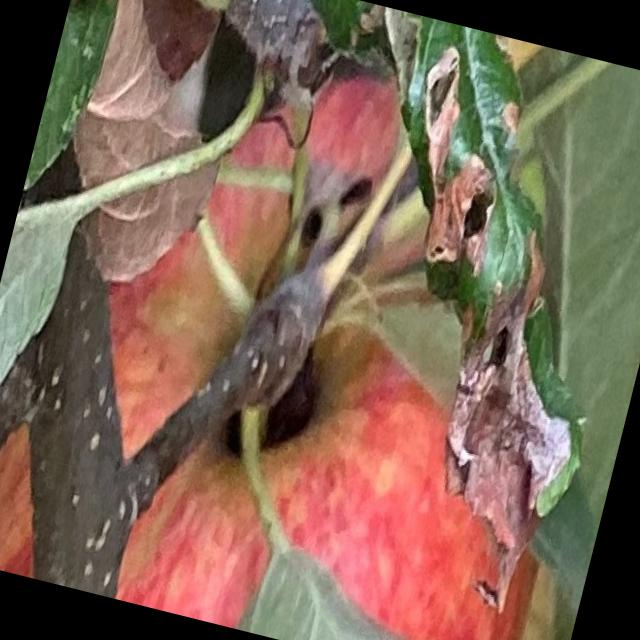Apples: (0, 12, 639, 639)
